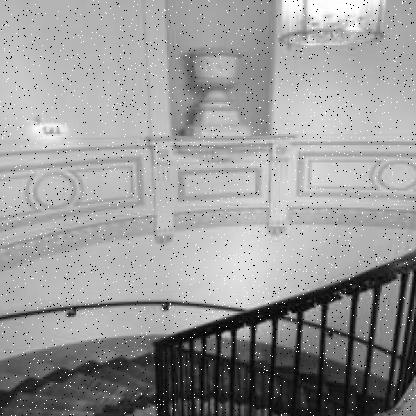stair_down: (4, 295, 169, 416)
